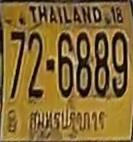2: (28, 32, 42, 97)
6: (57, 31, 72, 97)
7: (10, 31, 25, 98)
8: (76, 33, 91, 97), (94, 32, 109, 96)
9: (110, 31, 128, 97)
SPK: (24, 106, 112, 136)
